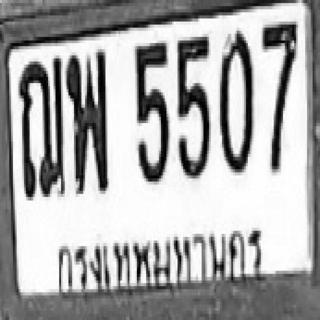A12: (6, 44, 69, 208)
A30: (62, 43, 115, 201)
N00: (215, 23, 257, 184)
N05: (128, 38, 175, 191), (173, 24, 213, 191)
N07: (260, 20, 299, 198)
P04: (48, 229, 274, 294)
